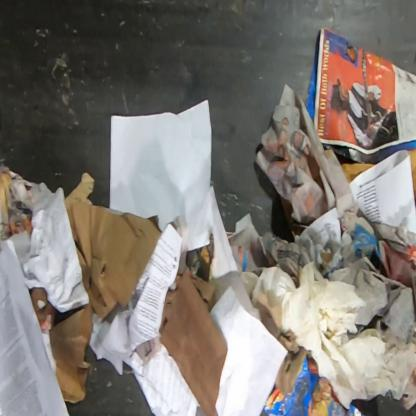cardboard: (49, 173, 164, 405), (159, 266, 229, 415)
soft_plastic: (264, 353, 368, 416)
